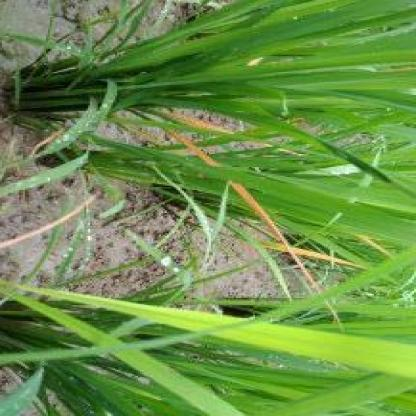Tungro: (16, 289, 416, 378)
